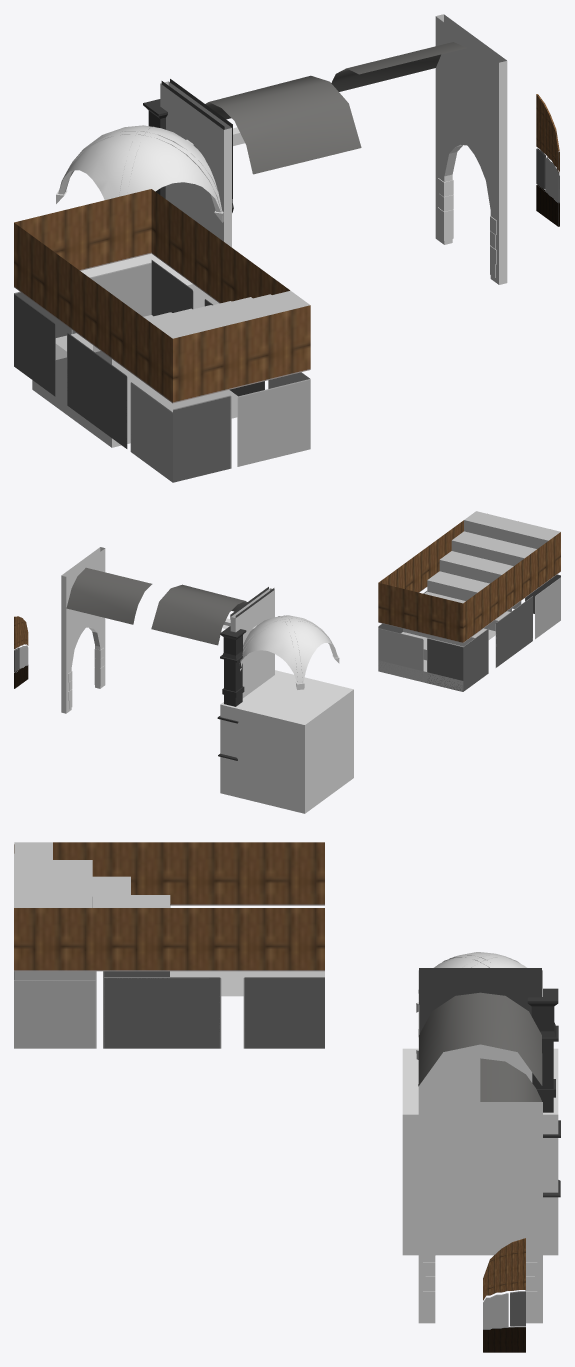
File: CastleCorridor.fbx
3 renders of one model, top to bottom at view 1: azimuth 30°, elevation 25°; view 2: azimuth 150°, elevation 25°; view 3: azimuth 270°, elevation 25°, orthographic. The views are drawn at different scales.
Visible parts, largest first — view 1: StepsPrototype04x02x02.000, StepsPrototype04x02x02.001, WallDoor_LOD0, Arc.001, SphericalRoof, Wall, RoofInteror, Door_LOD0, ArcB, Arc, Column; view 2: RoofInteror, StepsPrototype04x02x02.001, StepsPrototype04x02x02.000, Arc.001, WallDoor_LOD0, SphericalRoof, ArcB, Wall, Column, Door_LOD0; view 3: StepsPrototype04x02x02.000, StepsPrototype04x02x02.001, WallDoor_LOD0, RoofInteror, Arc.001, Door_LOD0, Arc, Wall, Column, ArcB, SphericalRoof.
Boxes of the visible parts, x1=… form: StepsPrototype04x02x02.000: x1=14, y1=189, x2=309, y2=482; StepsPrototype04x02x02.001: x1=14, y1=290, x2=310, y2=482; WallDoor_LOD0: x1=435, y1=14, x2=507, y2=284; Arc.001: x1=205, y1=75, x2=361, y2=174; SphericalRoof: x1=56, y1=125, x2=223, y2=222; Wall: x1=160, y1=81, x2=231, y2=247; RoofInteror: x1=32, y1=253, x2=237, y2=447; Door_LOD0: x1=536, y1=94, x2=559, y2=226; ArcB: x1=331, y1=42, x2=466, y2=91; Arc: x1=161, y1=79, x2=233, y2=212; Column: x1=143, y1=99, x2=167, y2=198; RoofInteror: x1=220, y1=670, x2=353, y2=813; StepsPrototype04x02x02.001: x1=378, y1=511, x2=560, y2=691; StepsPrototype04x02x02.000: x1=378, y1=520, x2=560, y2=691; Arc.001: x1=151, y1=584, x2=247, y2=645; WallDoor_LOD0: x1=61, y1=547, x2=105, y2=713; SphericalRoof: x1=239, y1=615, x2=339, y2=689; ArcB: x1=66, y1=567, x2=152, y2=624; Wall: x1=230, y1=588, x2=274, y2=698; Column: x1=217, y1=626, x2=246, y2=760; Door_LOD0: x1=14, y1=616, x2=28, y2=688; StepsPrototype04x02x02.000: x1=14, y1=842, x2=324, y2=1048; StepsPrototype04x02x02.001: x1=14, y1=842, x2=324, y2=1048; WallDoor_LOD0: x1=418, y1=1102, x2=542, y2=1323; RoofInteror: x1=402, y1=1048, x2=558, y2=1255; Arc.001: x1=418, y1=992, x2=542, y2=1086; Door_LOD0: x1=483, y1=1238, x2=525, y2=1352; Arc: x1=419, y1=968, x2=541, y2=1033; Wall: x1=418, y1=970, x2=542, y2=1101; Column: x1=527, y1=988, x2=560, y2=1197; ArcB: x1=480, y1=1058, x2=541, y2=1101; SphericalRoof: x1=416, y1=952, x2=526, y2=1059.
Size of what is drawn, in the model's own units: 910 by 400 by 704.
